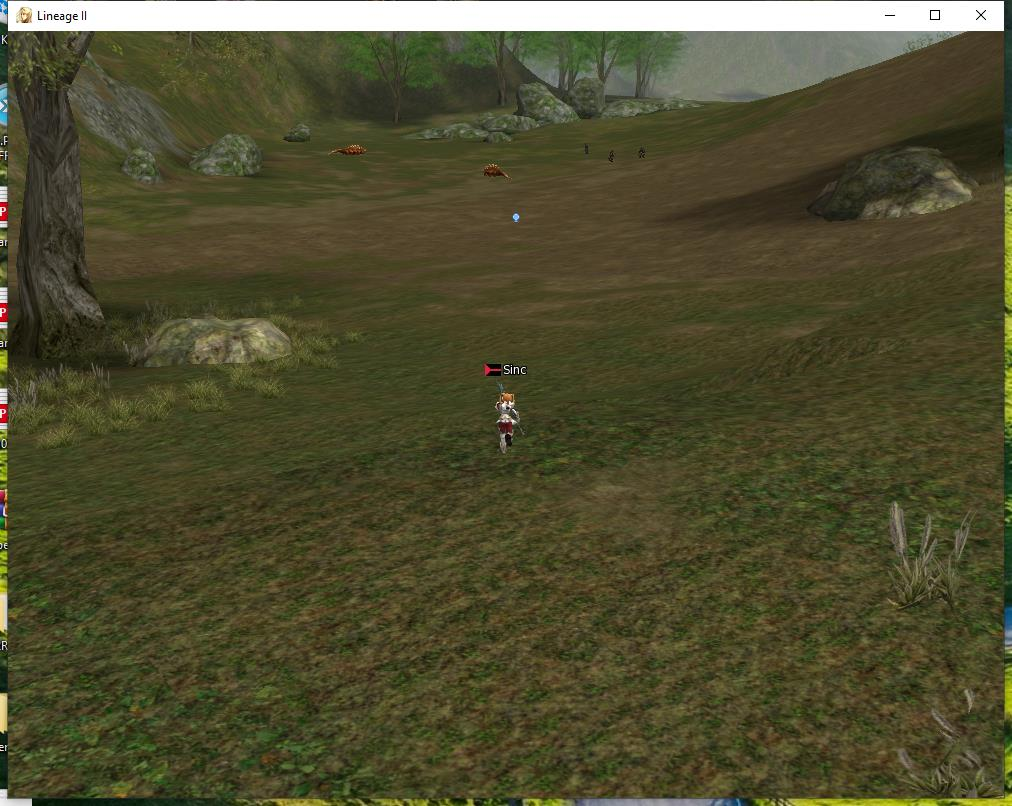monster: (324, 139, 380, 160), (479, 159, 511, 180), (606, 148, 619, 164), (637, 145, 647, 161), (581, 142, 595, 152)
